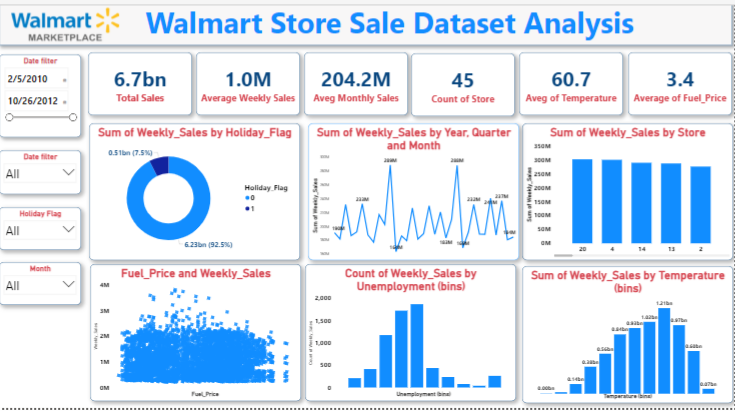

What the dashboard file says about the page in this screenshot:
{"tool":"powerbi","page":{"name":"Page 1","canvas":[2450,1420],"ordinal":0},"visuals":[{"type":"textbox","box":[0,60,2443.3,150],"z":0},{"type":"card","fields":{"Values":["Sum(walmart.Weekly_Sales)"]},"box":[296.7,234.9,346.1,210],"z":0,"group":"g1"},{"type":"card","fields":{"Values":["Avg(walmart.Weekly_Sales)"]},"box":[656.1,234.9,346.1,210],"z":1000,"group":"g1"},{"type":"slicer","title":"Date filter","fields":{"Values":["walmart.Date"]},"box":[0,240,273.3,276.7],"z":1000},{"type":"group","id":"g1","title":"Group 2","box":[296.7,234.9,2146.7,213.3],"z":2000,"group":"g2"},{"type":"card","fields":{"Values":["walmart.Average_Monthly_Sales"]},"box":[1015.5,234.9,346.1,210],"z":2000,"group":"g1"},{"type":"slicer","title":"Date filter","fields":{"Values":["walmart.Date.Variation.Date Hierarchy.Year"]},"box":[0,560,273.3,146.7],"z":2000},{"type":"card","fields":{"Values":["Count(walmart.Store)"]},"box":[1375,238.2,345.2,210],"z":3000,"group":"g1"},{"type":"slicer","title":"Holiday Flag","fields":{"Values":["walmart.Holiday_Flag"]},"box":[0,750,273.3,143.3],"z":3000},{"type":"card","fields":{"Values":["Avg(walmart.Temperature)"]},"box":[1734.4,234.9,346.1,210],"z":4000,"group":"g1"},{"type":"donutChart","fields":{"Category":["walmart.Holiday_Flag"],"Y":["Sum(walmart.Weekly_Sales)"]},"box":[300,471.6,703.3,456.7],"z":4000,"group":"g4"},{"type":"slicer","title":"Month","fields":{"Values":["walmart.Date.Variation.Date Hierarchy.Month"]},"box":[0,933.3,273.3,143.3],"z":4000},{"type":"image","box":[0,30,440,210],"z":5000},{"type":"card","fields":{"Values":["Avg(walmart.Fuel_Price)"]},"box":[2097.5,234.9,345.9,210],"z":5000,"group":"g1"},{"type":"scatterChart","fields":{"X":["walmart.Fuel_Price"],"Y":["walmart.Weekly_Sales"]},"box":[303.4,943,703.3,456.7],"z":5000,"group":"g3"},{"type":"group","id":"g2","title":"Group 4","box":[296.7,234.9,2150,1171.5],"z":6000},{"type":"lineChart","fields":{"Y":["Sum(walmart.Weekly_Sales)"],"Category":["walmart.Date.Variation.Date Hierarchy.Year","walmart.Date.Variation.Date Hierarchy.Quarter","walmart.Date.Variation.Date Hierarchy.Month"]},"box":[1030,471.6,703.3,456.7],"z":6000,"group":"g4"},{"type":"lineClusteredColumnComboChart","fields":{"Category":["walmart.Store"],"Y":["Sum(walmart.Weekly_Sales)"]},"box":[1743.3,471.6,703.3,456.7],"z":7000,"group":"g4"},{"type":"columnChart","fields":{"Category":["walmart.Unemployment (bins)"],"Y":["CountNonNull(walmart.Weekly_Sales)"]},"box":[1020.1,943,703.3,456.7],"z":8000,"group":"g3"},{"type":"columnChart","fields":{"Category":["walmart.Temperature (bins)"],"Y":["Sum(walmart.Weekly_Sales)"]},"box":[1743.4,949.7,703.3,456.7],"z":9000,"group":"g3"},{"type":"group","id":"g3","title":"Group 1","box":[303.4,943,2143.3,463.3],"z":11002,"group":"g2"},{"type":"group","id":"g4","title":"Group 3","box":[300,471.6,2146.7,456.7],"z":11003,"group":"g2"}]}

Visuals, with their boxes on the page's 2450x1420 design canvas (x1, y1, x2, y2). These are canvas units, not pixel positions in the 735x411 screenshot, which may show the page scaled, cropped or inside an application window:
textbox: x1=0, y1=60, x2=2443, y2=210
card - Sum(walmart.Weekly_Sales): x1=297, y1=235, x2=643, y2=445
card - Avg(walmart.Weekly_Sales): x1=656, y1=235, x2=1002, y2=445
"Date filter" slicer: x1=0, y1=240, x2=273, y2=517
"Group 2" group: x1=297, y1=235, x2=2443, y2=448
card - walmart.Average_Monthly_Sales: x1=1016, y1=235, x2=1362, y2=445
"Date filter" slicer: x1=0, y1=560, x2=273, y2=707
card - Count(walmart.Store): x1=1375, y1=238, x2=1720, y2=448
"Holiday Flag" slicer: x1=0, y1=750, x2=273, y2=893
card - Avg(walmart.Temperature): x1=1734, y1=235, x2=2080, y2=445
donutChart - walmart.Holiday_Flag x Sum(walmart.Weekly_Sales): x1=300, y1=472, x2=1003, y2=928
"Month" slicer: x1=0, y1=933, x2=273, y2=1077
image: x1=0, y1=30, x2=440, y2=240
card - Avg(walmart.Fuel_Price): x1=2098, y1=235, x2=2443, y2=445
scatterChart - walmart.Fuel_Price x walmart.Weekly_Sales: x1=303, y1=943, x2=1007, y2=1400
"Group 4" group: x1=297, y1=235, x2=2447, y2=1406
lineChart - Sum(walmart.Weekly_Sales) x walmart.Date.Variation.Date Hierarchy.Year: x1=1030, y1=472, x2=1733, y2=928
lineClusteredColumnComboChart - walmart.Store x Sum(walmart.Weekly_Sales): x1=1743, y1=472, x2=2447, y2=928
columnChart - walmart.Unemployment (bins) x CountNonNull(walmart.Weekly_Sales): x1=1020, y1=943, x2=1723, y2=1400
columnChart - walmart.Temperature (bins) x Sum(walmart.Weekly_Sales): x1=1743, y1=950, x2=2447, y2=1406
"Group 1" group: x1=303, y1=943, x2=2447, y2=1406
"Group 3" group: x1=300, y1=472, x2=2447, y2=928
